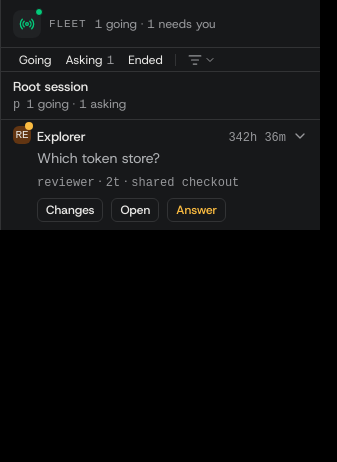
Scenario: the fleet column › shows an agent paused on a question as Asking, with the question and its choices, and still offers to end it
The image size is (337, 462).
Expected: the element showing "Which token store?" is shown, [37,149,160,167]
Expected: the button "Answer" is shown, [167,198,226,222]
Click the button "RE Explorer 342h 36m Which token store?" at [160, 148], box [13,128,308,169]
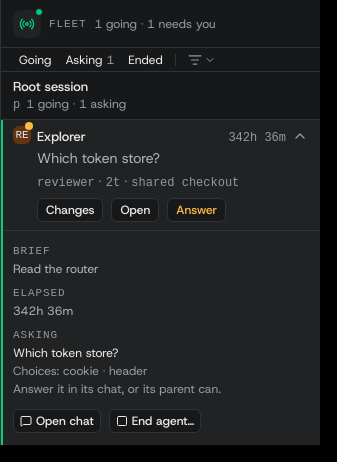
Now the text "Which token store?" below "Elapsed" is shown, box [13,345,118,361]
Now the element that starts with "Brief" shows "Choices: cookie · header", box [13,245,221,397]
Now the element that starts with "Brief" shows "Answer it in its chat, or its parent can.", box [13,381,221,397]
